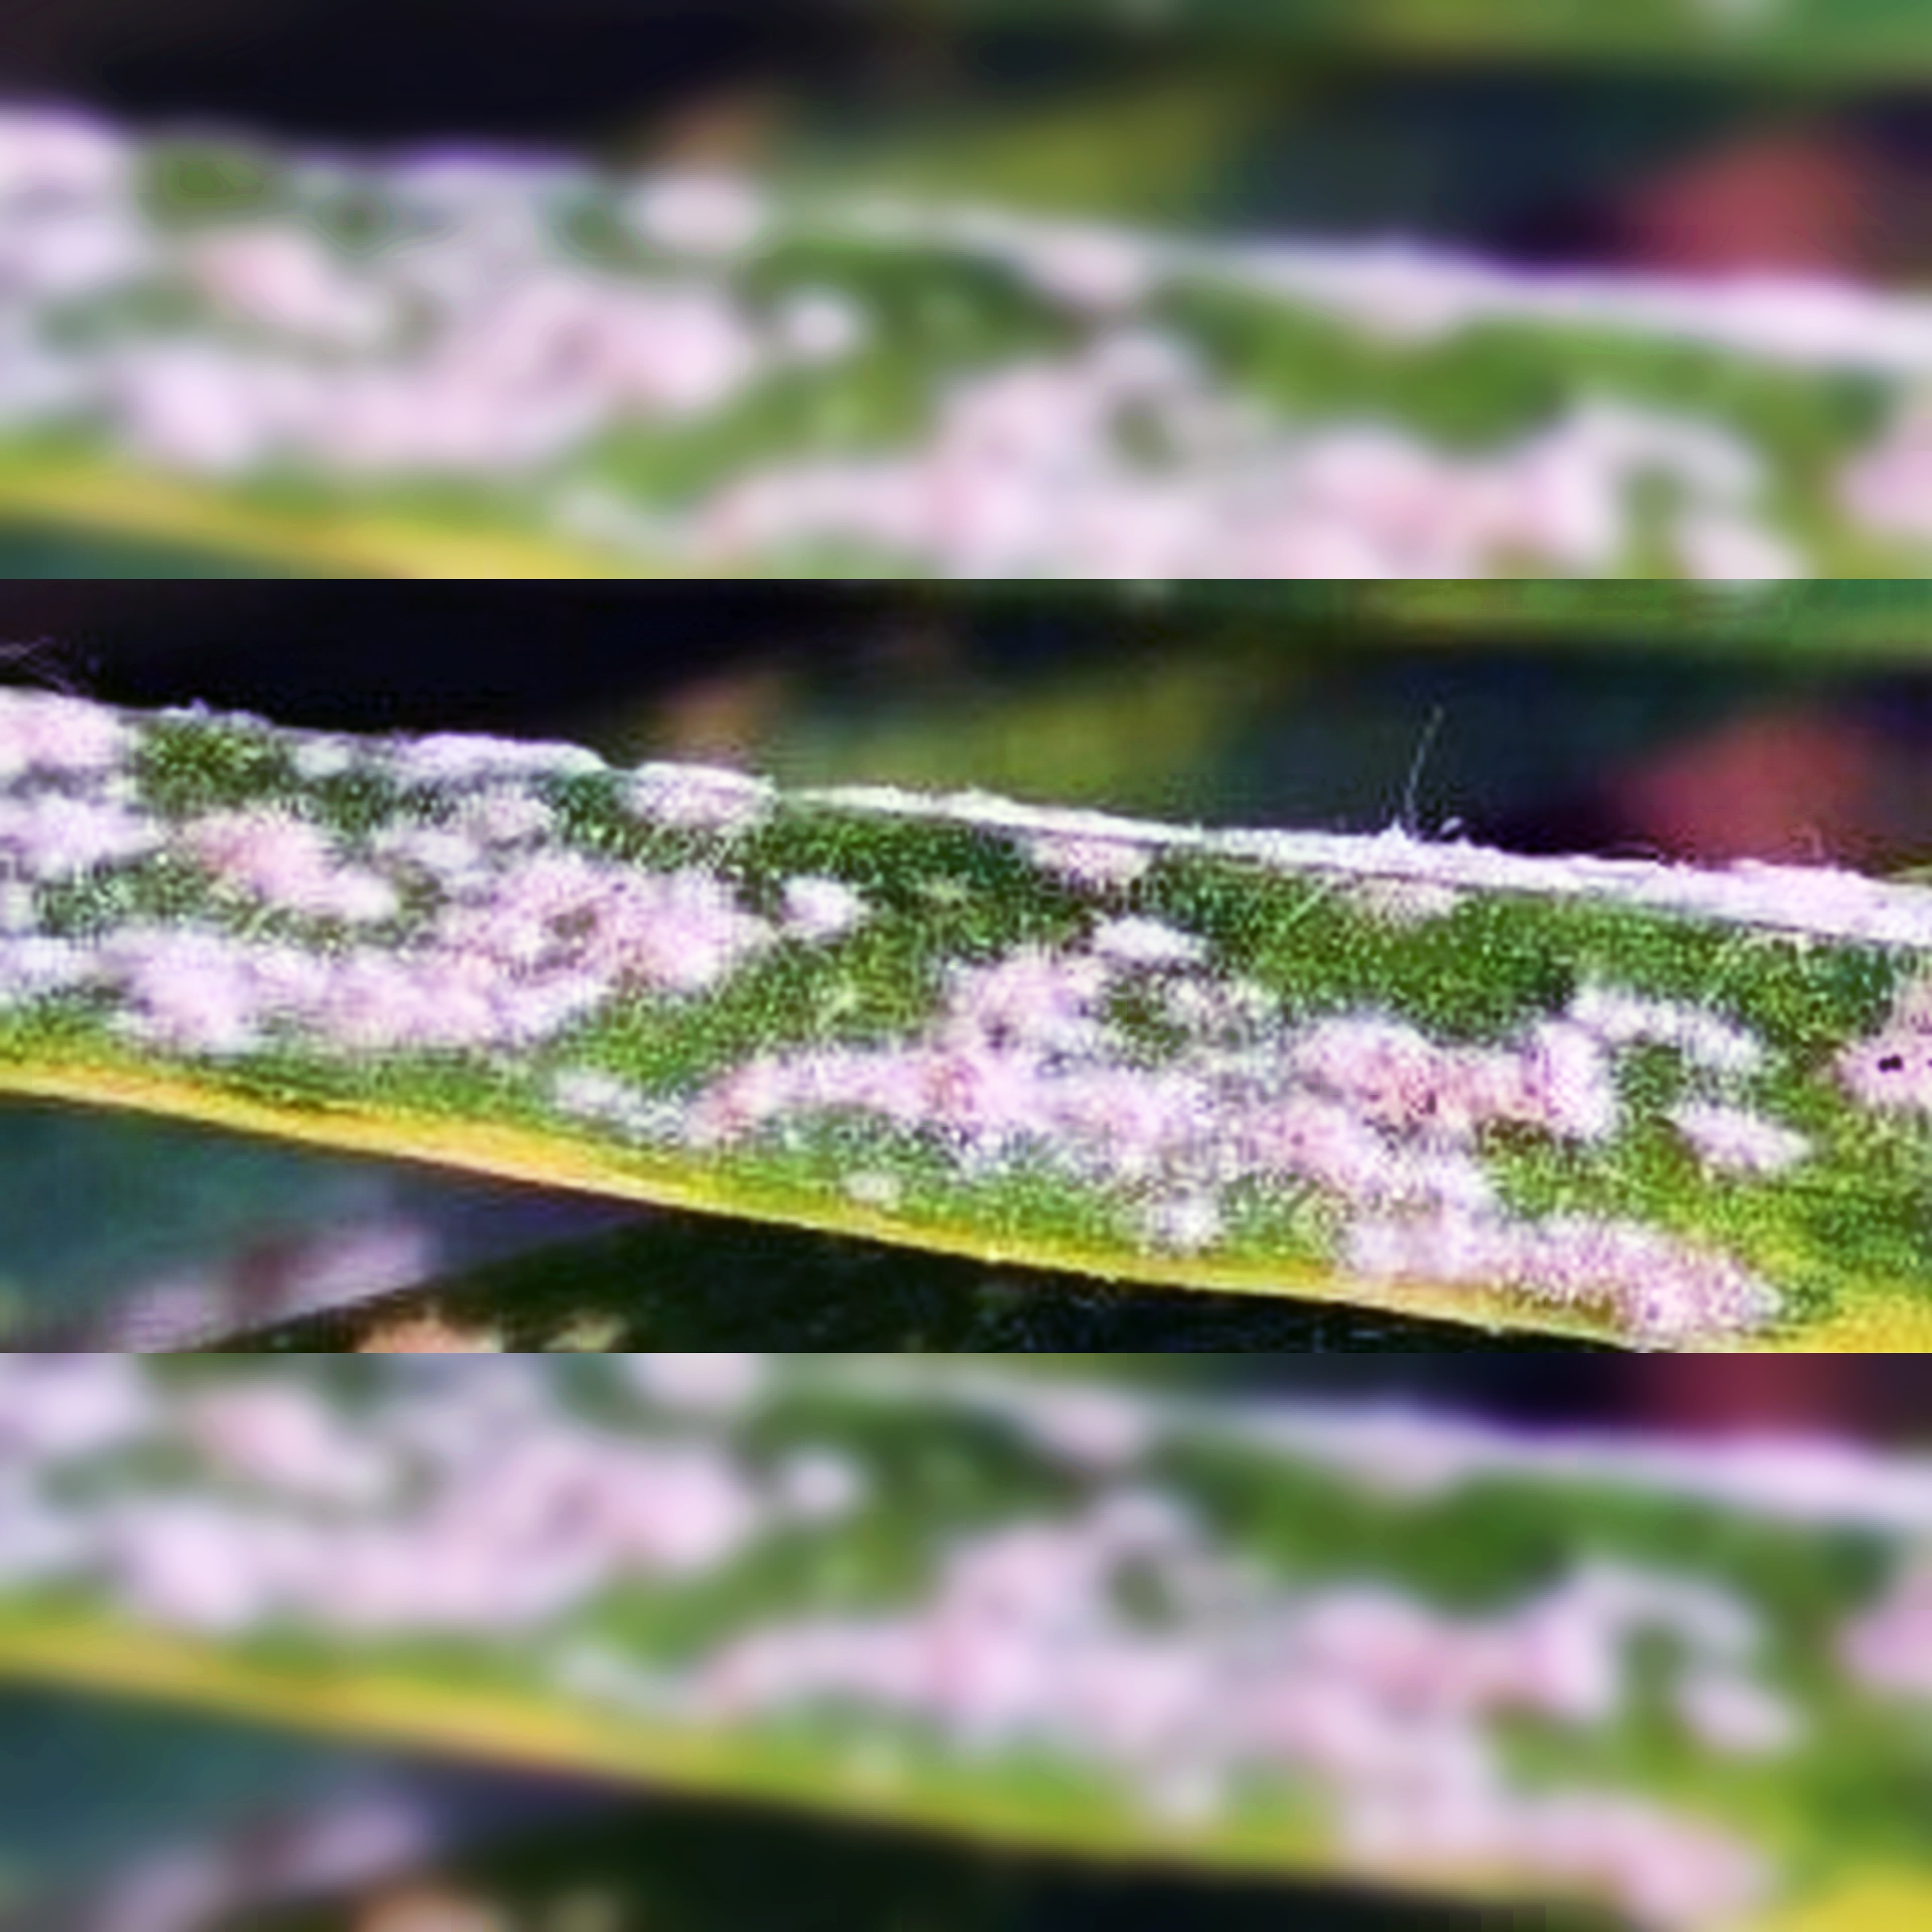Powdery Mildew: (27, 695, 1851, 1341)
